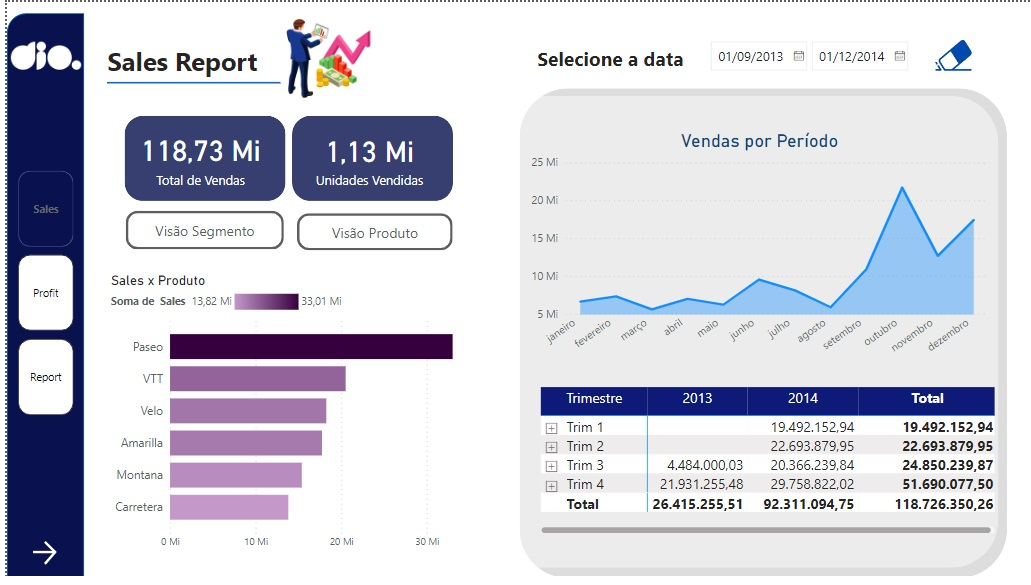

The page's visual inventory and layout, read from the dashboard file:
{"tool":"powerbi","page":{"name":"Sales","canvas":[1280,720],"ordinal":0},"visuals":[{"type":"group","id":"g1","title":"Layout","box":[0,-0.5,511.4,720],"z":0},{"type":"shape","box":[0,13.4,96.4,706.2],"z":0,"group":"g1"},{"type":"slicer","fields":{"Values":["financials.Date"]},"box":[867.2,38.7,272.2,55],"z":0,"group":"g3"},{"type":"shape","box":[123.8,84.6,217.2,33],"z":0,"group":"g4"},{"type":"shape","box":[147.2,142.2,201.4,106.8],"z":0,"group":"g2"},{"type":"areaChart","title":"Vendas por Período","fields":{"Category":["financials.Date.Variation.Hierarquia de datas.Ano","financials.Date.Variation.Hierarquia de datas.Mês"],"Y":["Sum(financials. Sales)"]},"box":[650.7,160,581.4,301.5],"z":0,"group":"g6"},{"type":"image","title":"logo_dio","box":[0,35.7,98.2,63.2],"z":1000,"group":"g1"},{"type":"textbox","box":[119.8,47.3,217.9,60.6],"z":1000,"group":"g4"},{"type":"textbox","box":[657.9,49.3,207.8,59.2],"z":1000,"group":"g3"},{"type":"shape","box":[355.9,142.2,201.4,106.8],"z":1000,"group":"g2"},{"type":"clusteredBarChart","title":"Sales x Produto","fields":{"Y":["Sum(financials. Sales)"],"Category":["financials.Product"]},"box":[125.5,337.9,473.5,355.6],"z":1000,"group":"g5"},{"type":"actionButton","title":"Botão - Next","box":[25.9,669,48.8,39.6],"z":1000},{"type":"image","box":[322.6,-0.5,188.8,141.2],"z":2000,"group":"g1"},{"type":"actionButton","box":[1153.3,43.3,59.9,51.3],"z":2000,"group":"g3"},{"type":"group","id":"g2","title":"Cartões","box":[147.2,141.2,410.3,107],"z":2000},{"type":"card","fields":{"Values":["Sum(financials. Sales)"]},"box":[161.1,141.2,162.6,106.9],"z":2000,"group":"g2"},{"type":"actionButton","title":"B-Segmento","box":[147.8,261.6,197.5,48.4],"z":2000,"group":"g5"},{"type":"group","id":"g3","title":"Filtro por data","box":[657.9,38.7,555.3,69.8],"z":3000},{"type":"image","title":"clean","box":[1153.3,39,59.9,55.6],"z":3000,"group":"g3"},{"type":"card","fields":{"Values":["Sum(financials.Units Sold)"]},"box":[375.8,145.4,156.5,98.6],"z":3000,"group":"g2"},{"type":"actionButton","title":"B-Produto","box":[362.2,264.3,194.6,46.3],"z":3000,"group":"g5"},{"type":"shape","box":[640.7,108.5,609.5,612.5],"z":4000},{"type":"group","id":"g4","title":"Title report","box":[119.8,47.3,221.2,70.2],"z":5000},{"type":"group","id":"g5","title":"Grupo 1","box":[120.4,261.6,478.7,446],"z":6000},{"type":"shape","box":[584.3,116.9,655,590.1],"z":7000},{"type":"group","id":"g6","title":"Perspectiva temporal das vendas","box":[650.7,160,581.4,301.5],"z":8000},{"type":"pivotTable","fields":{"Values":["Sum(financials. Sales)"],"Columns":["financials.Date.Variation.Hierarquia de datas.Ano"],"Rows":["financials.Date.Variation.Hierarquia de datas.Trimestre","financials.Date.Variation.Hierarquia de datas.Mês"]},"box":[662.2,476.1,577.1,193.3],"z":9000},{"type":"pageNavigator","box":[13.4,211.1,69.9,306.2],"z":10000}]}

Visuals, with their boxes in screenshot pixels (x1, y1, x2, y2), scaled from the page's 1280x720 canvas onto the 1031x585 screenshot:
"Layout" group: {"left": 0, "top": 0, "right": 412, "bottom": 584}
shape: {"left": 0, "top": 11, "right": 78, "bottom": 584}
slicer - financials.Date: {"left": 699, "top": 31, "right": 918, "bottom": 76}
shape: {"left": 100, "top": 69, "right": 275, "bottom": 96}
shape: {"left": 119, "top": 116, "right": 281, "bottom": 202}
"Vendas por Período" areaChart: {"left": 524, "top": 130, "right": 992, "bottom": 375}
"logo_dio" image: {"left": 0, "top": 29, "right": 79, "bottom": 80}
textbox: {"left": 96, "top": 38, "right": 272, "bottom": 88}
textbox: {"left": 530, "top": 40, "right": 697, "bottom": 88}
shape: {"left": 287, "top": 116, "right": 449, "bottom": 202}
"Sales x Produto" clusteredBarChart: {"left": 101, "top": 275, "right": 482, "bottom": 563}
"Botão - Next" actionButton: {"left": 21, "top": 544, "right": 60, "bottom": 576}
image: {"left": 260, "top": 0, "right": 412, "bottom": 114}
actionButton: {"left": 929, "top": 35, "right": 977, "bottom": 77}
"Cartões" group: {"left": 119, "top": 115, "right": 449, "bottom": 202}
card - Sum(financials. Sales): {"left": 130, "top": 115, "right": 261, "bottom": 202}
"B-Segmento" actionButton: {"left": 119, "top": 213, "right": 278, "bottom": 252}
"Filtro por data" group: {"left": 530, "top": 31, "right": 977, "bottom": 88}
"clean" image: {"left": 929, "top": 32, "right": 977, "bottom": 77}
card - Sum(financials.Units Sold): {"left": 303, "top": 118, "right": 429, "bottom": 198}
"B-Produto" actionButton: {"left": 292, "top": 215, "right": 448, "bottom": 252}
shape: {"left": 516, "top": 88, "right": 1007, "bottom": 584}
"Title report" group: {"left": 96, "top": 38, "right": 275, "bottom": 95}
"Grupo 1" group: {"left": 97, "top": 213, "right": 483, "bottom": 575}
shape: {"left": 471, "top": 95, "right": 998, "bottom": 574}
"Perspectiva temporal das vendas" group: {"left": 524, "top": 130, "right": 992, "bottom": 375}
pivotTable - Sum(financials. Sales) x financials.Date.Variation.Hierarquia de datas.Ano: {"left": 533, "top": 387, "right": 998, "bottom": 544}
pageNavigator: {"left": 11, "top": 172, "right": 67, "bottom": 420}
